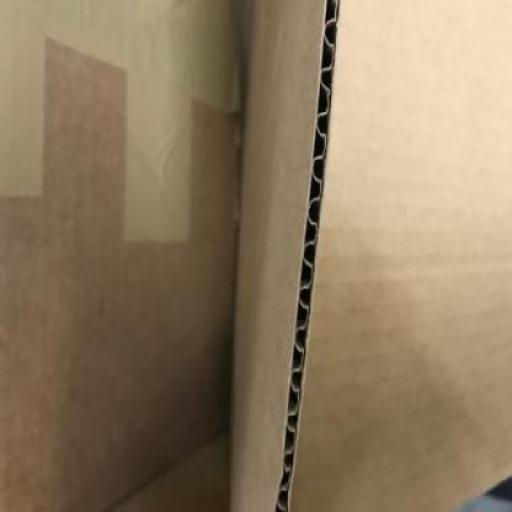cardboard: (0, 0, 511, 511), (270, 0, 512, 511)
